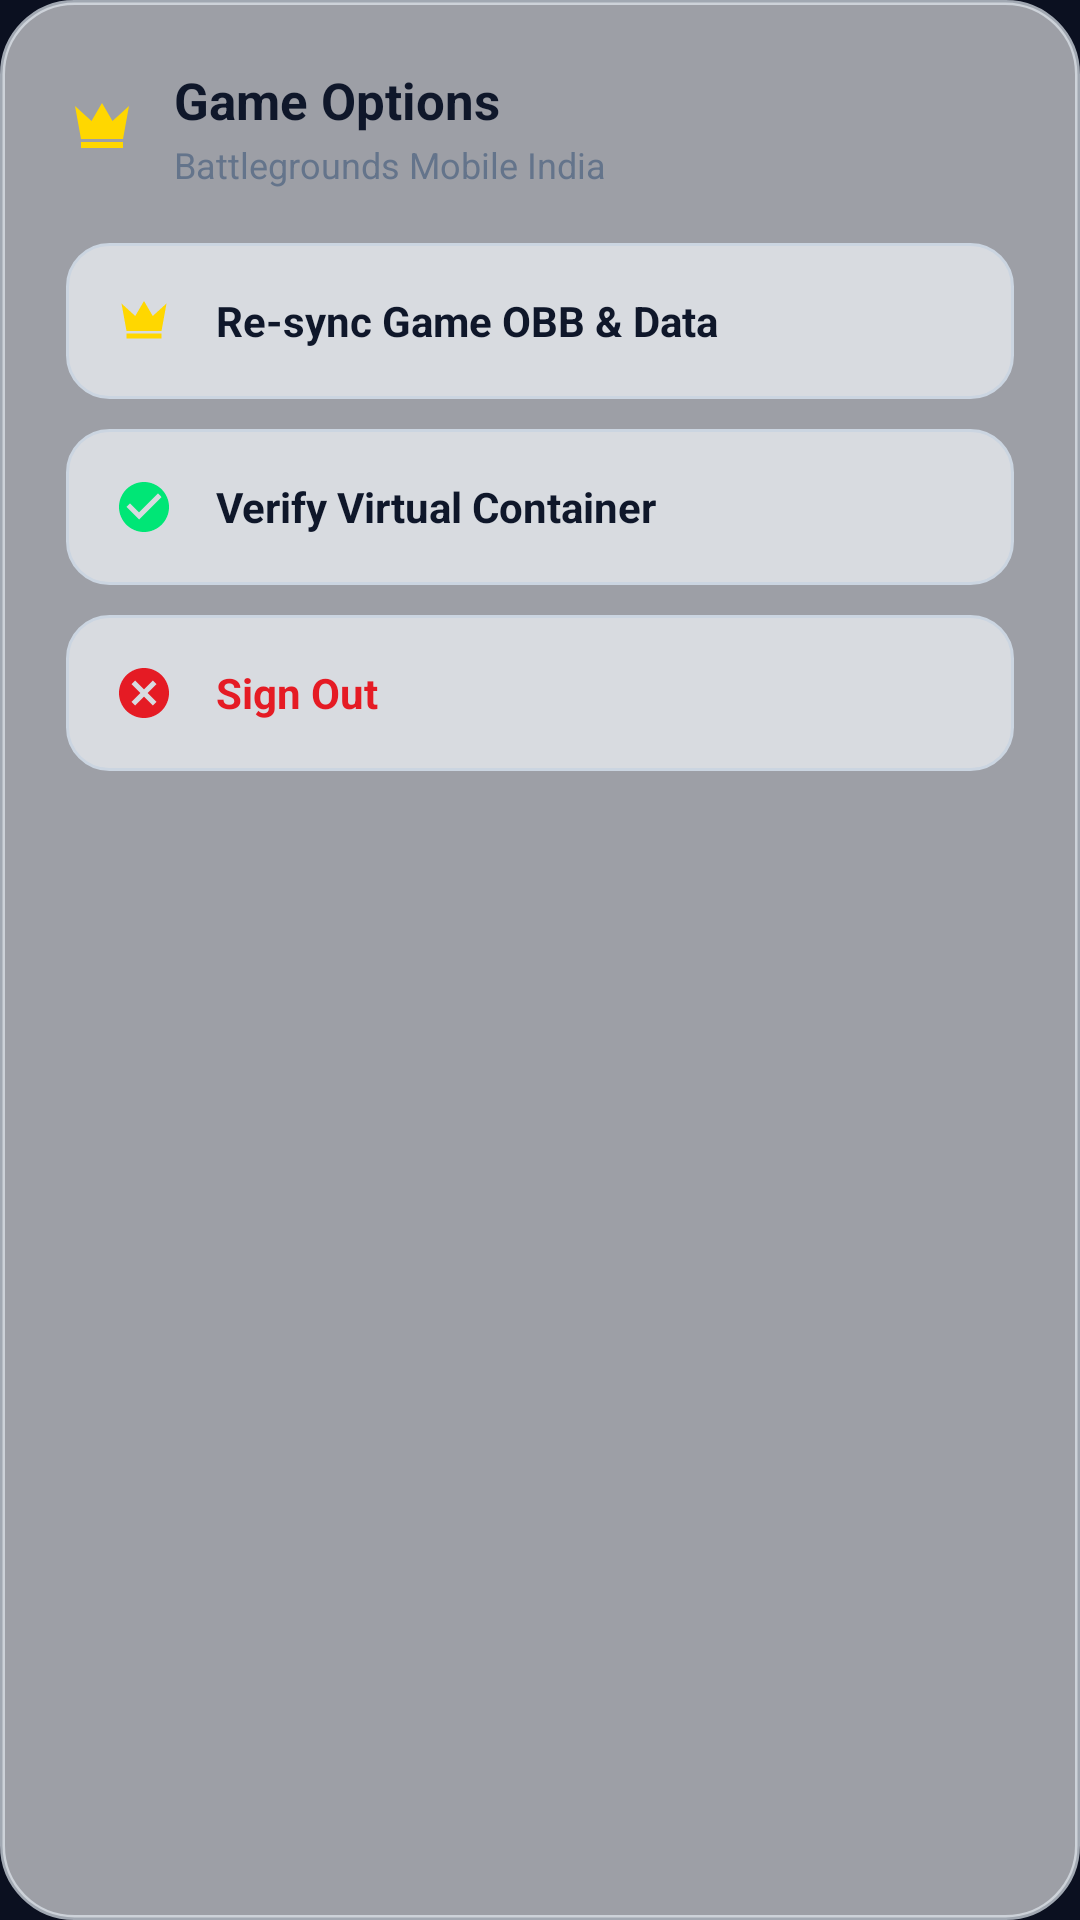

Icons on this 1080×1920 Android screen, each with the point to tap as [x,y]:
Crown: [102,125]
